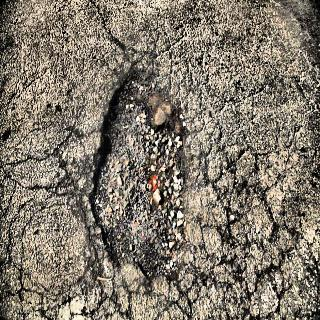alligator-crack: (199, 152, 311, 320)
pothole: (85, 62, 193, 280)
